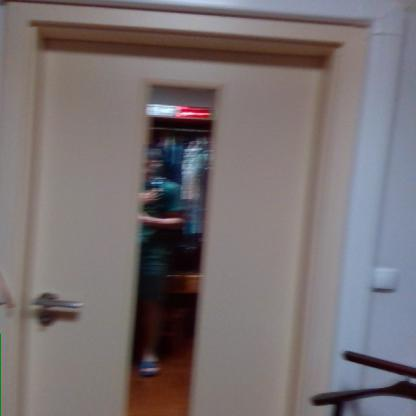door: (24, 31, 304, 415)
lever: (32, 295, 84, 311)
